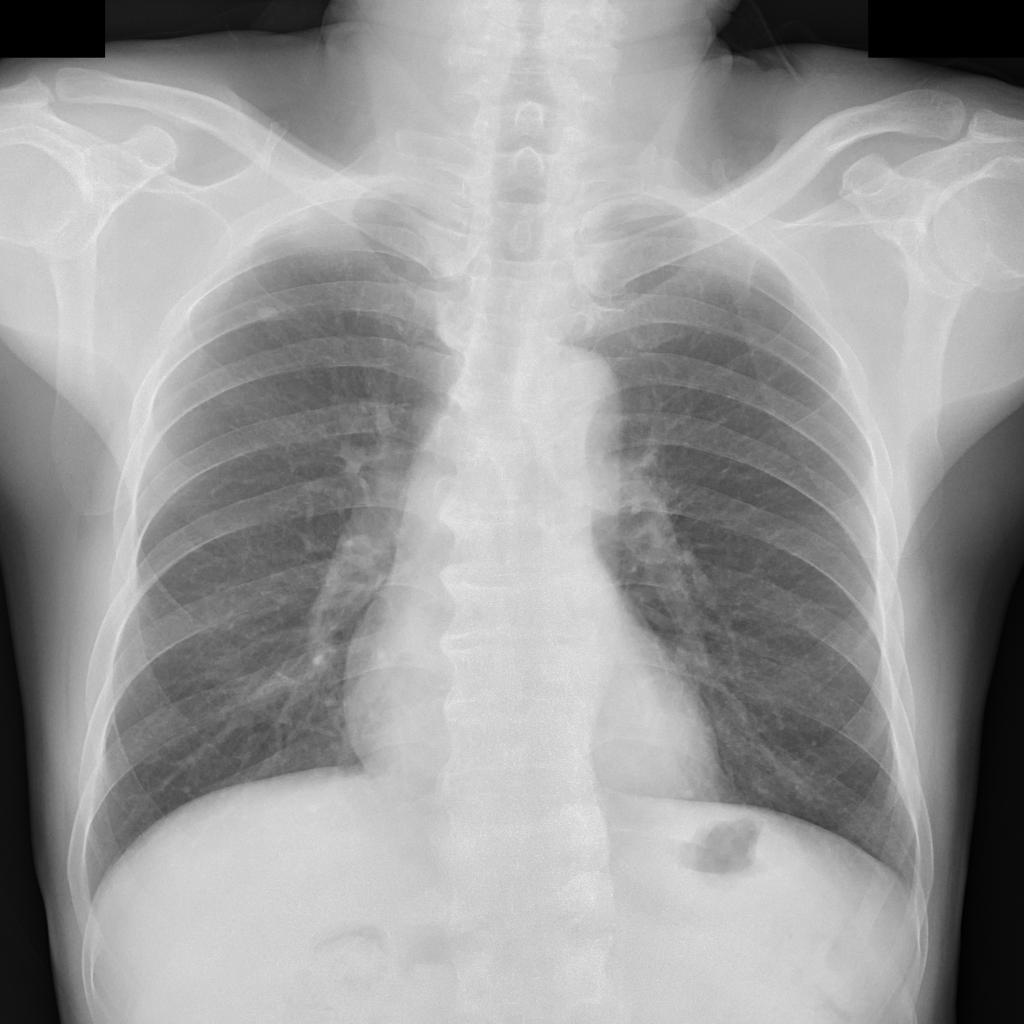Nodule: (259, 301, 281, 324)
